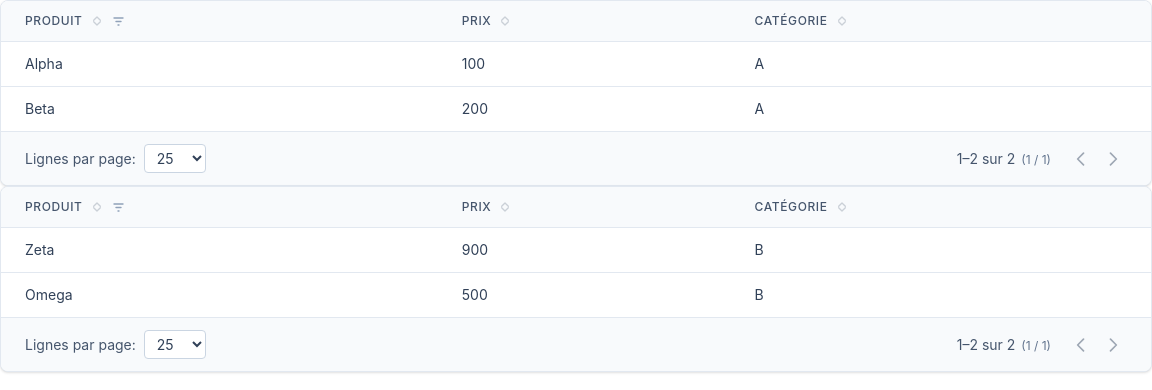
ResponsiveDataTable — Upgrade & Robustesse › Isolation multi-instances › deux tables distinctes ne polluent pas mutuellement leur tri et pagination
Note: Trier la table B par Nom asc (Omega, Zeta)
Click the 2nd text "Produit". click: {"x": 54, "y": 207}
box: [25, 199, 82, 215]
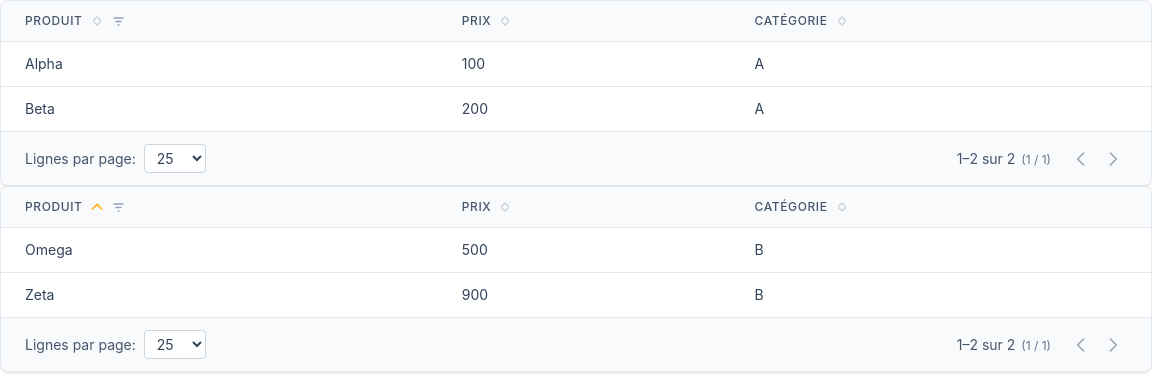
Expected: the text "Alpha" is shown, [1, 42, 438, 86]
Now the text "Omega" is shown, box [1, 228, 438, 272]
